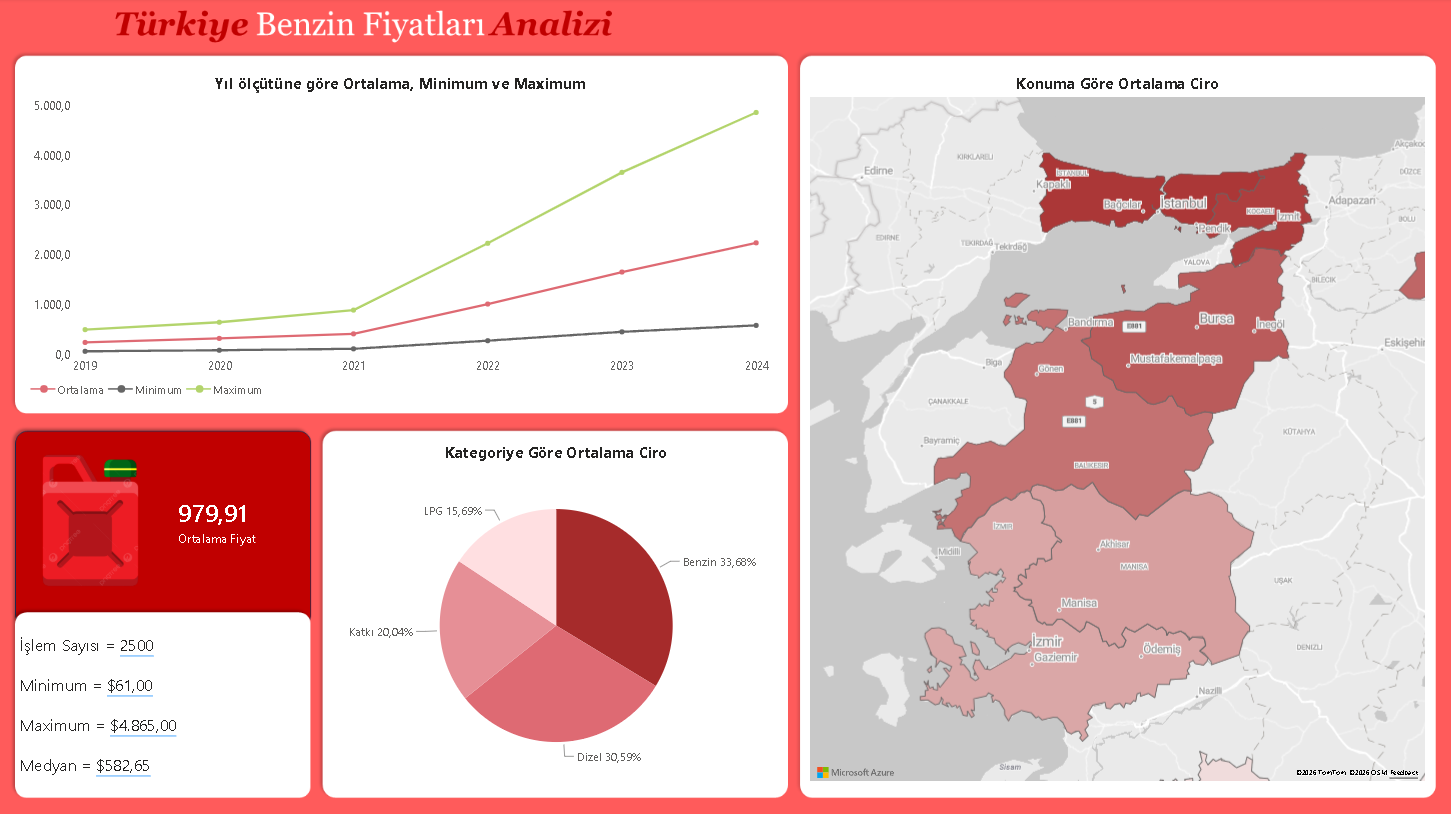

This screenshot's page, from the dashboard's own definition file:
{"tool":"powerbi","page":{"name":"1. sayfa","canvas":[1920,1080],"ordinal":0},"visuals":[{"type":"lineChart","fields":{"Category":["Takvim.Yıl"],"Y":["Metrikler.Ortalama","Metrikler.Minimum","Metrikler.Maximum"]},"box":[26.3,86.9,1012.8,453.1],"z":0},{"type":"azureMap","title":"Konuma Göre Ortalama Ciro","fields":{"Category":["İller.İlAdı"]},"box":[1061.6,86.9,831.1,954],"z":1000},{"type":"pieChart","title":"Kategoriye Göre Ortalama Ciro","fields":{"Y":["Metrikler.Ortalama"],"Category":["Ürünler.Kategori"]},"box":[437.7,583.6,601.1,458.1],"z":2000},{"type":"image","box":[26.3,583.6,195.5,208.6],"z":3000},{"type":"cardVisual","fields":{"Data":["Metrikler.Ortalama"]},"box":[210.1,601.1,195.5,173.6],"z":4000},{"type":"textbox","box":[26.3,831.6,379.3,45.2],"z":5000},{"type":"textbox","box":[26.3,884.1,379.3,42.3],"z":6000},{"type":"textbox","box":[26.3,936.7,379.3,42.3],"z":7000},{"type":"textbox","box":[26.3,989.2,379.3,42.3],"z":8000}]}

Visuals, with their boxes in screenshot pixels (x1, y1, x2, y2), scaled from the page's 1920x1080 canvas onto the 1451x814 screenshot:
lineChart - Takvim.Yıl x Metrikler.Ortalama: region(20, 65, 785, 407)
"Konuma Göre Ortalama Ciro" azureMap: region(802, 65, 1430, 785)
"Kategoriye Göre Ortalama Ciro" pieChart: region(331, 440, 785, 785)
image: region(20, 440, 168, 597)
cardVisual - Metrikler.Ortalama: region(159, 453, 307, 584)
textbox: region(20, 627, 307, 661)
textbox: region(20, 666, 307, 698)
textbox: region(20, 706, 307, 738)
textbox: region(20, 746, 307, 777)
